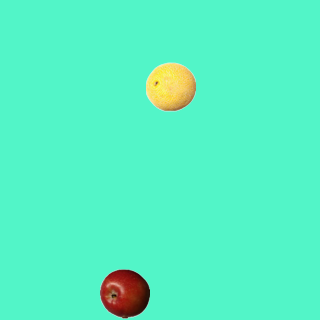Apple Braeburn: (99, 268, 149, 318)
Cantaloupe 1: (145, 61, 195, 111)
